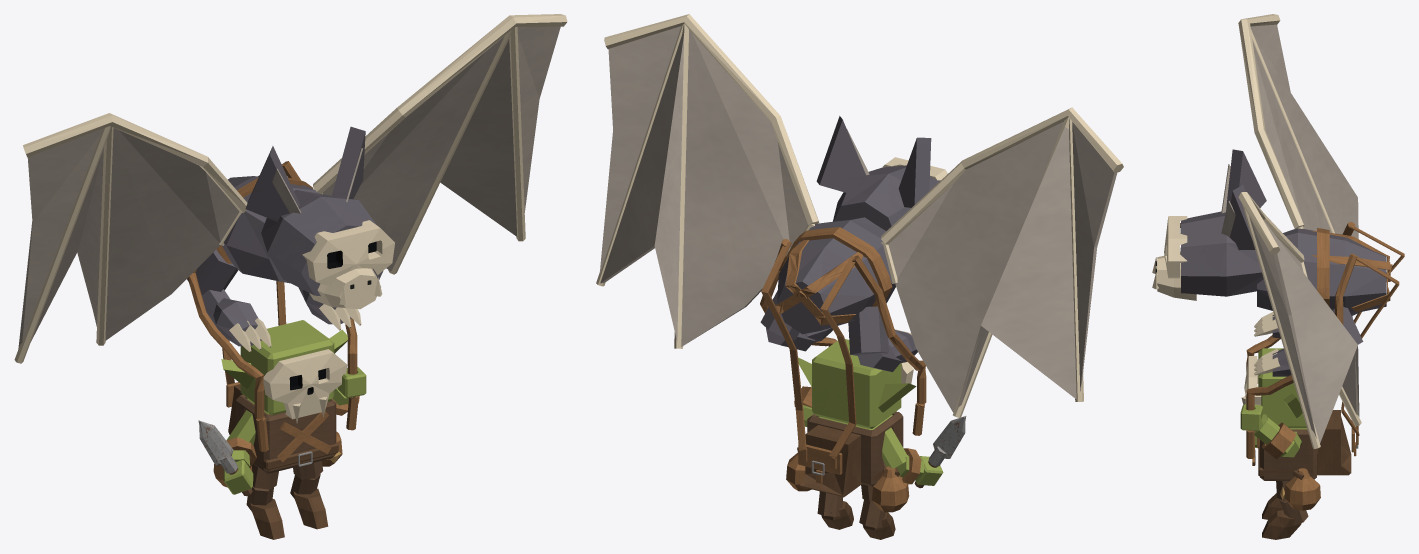
File: host_34.glb
3 views of the same model, side by side, from view 1: azimuth 30°, elevation 25°; view 2: azimuth 150°, elevation 25°; view 3: azimuth 270°, elevation 25° (orthographic). The views are drawn at different scales.
Parts seen in each view (by area): view 1: Bat source connected muzzle, skull, native limbs and membran, ONE connected hanging goblin skull body two arms joined palm, Bat fitted source volumetric ivory cranium and jaw mask, Goblin source true formed ivory skull cranium cheek and jaw, Suspended source real torso clothing, One of TWO actual hanging support ropes 1, One of TWO actual hanging support ropes -1, Goblin RIGHT upward and outward source dagger real volumetri; view 2: Bat source connected muzzle, skull, native limbs and membran, ONE connected hanging goblin skull body two arms joined palm, Suspended source central substantial brown backpack, Suspended source real torso clothing, One of TWO actual hanging support ropes 1, Source actual crossed dorsal rope carrier -1, Source actual crossed dorsal rope carrier 1, Fitted torso girth below wing roots, Source hanging side pouch 1, Source actual supported rear dorsal X harness 1, Source actual supported rear dorsal X harness -1, Goblin RIGHT upward and outward source dagger real volumetri (+1 smaller); view 3: Bat source connected muzzle, skull, native limbs and membran, ONE connected hanging goblin skull body two arms joined palm, Suspended source central substantial brown backpack, Suspended source real torso clothing, One of TWO actual hanging support ropes -1, Source hanging side pouch -1, Bat fitted source volumetric ivory cranium and jaw mask, Fitted torso girth below wing roots, Source actual crossed dorsal rope carrier -1, Goblin real annular forearm cuff 1, Source actual supported rear dorsal X harness -1, Goblin source true formed ivory skull cranium cheek and jaw (+3 smaller).
Part boxes in pixels (box(x1,y1,x2,y2)): Bat source connected muzzle, skull, native limbs and membran: box(14, 14, 567, 363); ONE connected hanging goblin skull body two arms joined palm: box(221, 320, 366, 539); Bat fitted source volumetric ivory cranium and jaw mask: box(302, 220, 394, 286); Goblin source true formed ivory skull cranium cheek and jaw: box(263, 349, 347, 419); Suspended source real torso clothing: box(235, 394, 336, 473); One of TWO actual hanging support ropes 1: box(187, 269, 268, 451); One of TWO actual hanging support ropes -1: box(282, 161, 358, 430); Goblin RIGHT upward and outward source dagger real volumetri: box(198, 420, 233, 465); Bat source connected muzzle, skull, native limbs and membran: box(596, 14, 1123, 417); ONE connected hanging goblin skull body two arms joined palm: box(798, 339, 943, 539); Suspended source central substantial brown backpack: box(800, 425, 861, 496); Suspended source real torso clothing: box(807, 411, 903, 486); One of TWO actual hanging support ropes 1: box(852, 255, 926, 435); Source actual crossed dorsal rope carrier -1: box(761, 242, 807, 461); Source actual crossed dorsal rope carrier 1: box(820, 256, 856, 469); Fitted torso girth below wing roots: box(782, 227, 892, 306); Source hanging side pouch 1: box(872, 466, 909, 512); Source actual supported rear dorsal X harness 1: box(785, 240, 855, 325); Source actual supported rear dorsal X harness -1: box(776, 243, 869, 314); Goblin RIGHT upward and outward source dagger real volumetri: box(933, 416, 966, 458); Bat source connected muzzle, skull, native limbs and membran: box(1157, 14, 1386, 448); ONE connected hanging goblin skull body two arms joined palm: box(1240, 348, 1308, 539); Suspended source central substantial brown backpack: box(1317, 410, 1351, 475); Suspended source real torso clothing: box(1260, 429, 1316, 480); One of TWO actual hanging support ropes -1: box(1246, 254, 1357, 458); Source hanging side pouch -1: box(1284, 468, 1320, 510); Bat fitted source volumetric ivory cranium and jaw mask: box(1164, 216, 1187, 278); Fitted torso girth below wing roots: box(1317, 228, 1329, 306); Source actual crossed dorsal rope carrier -1: box(1341, 253, 1399, 444); Goblin real annular forearm cuff 1: box(1262, 422, 1296, 459); Source actual supported rear dorsal X harness -1: box(1312, 231, 1390, 311); Goblin source true formed ivory skull cranium cheek and jaw: box(1244, 356, 1261, 405).
Size of the model in its own units: 3.45 by 2.89 by 1.58.
Materials: 22 (20 with a texture image).
